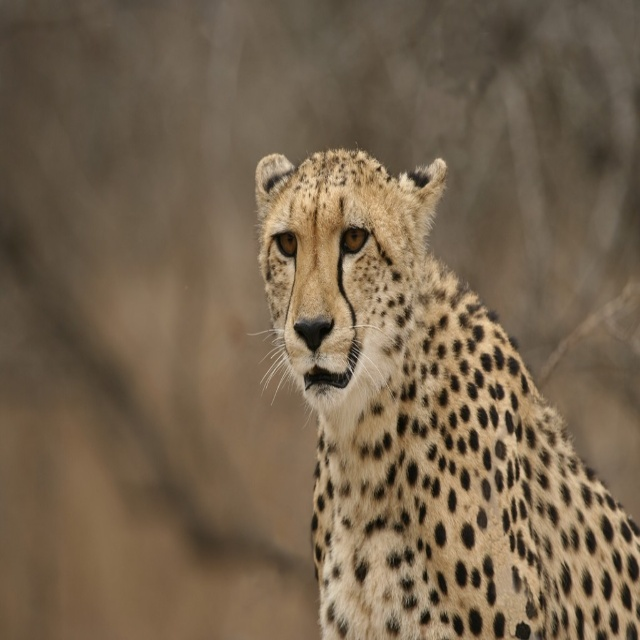Cheetah: (249, 148, 640, 639)
